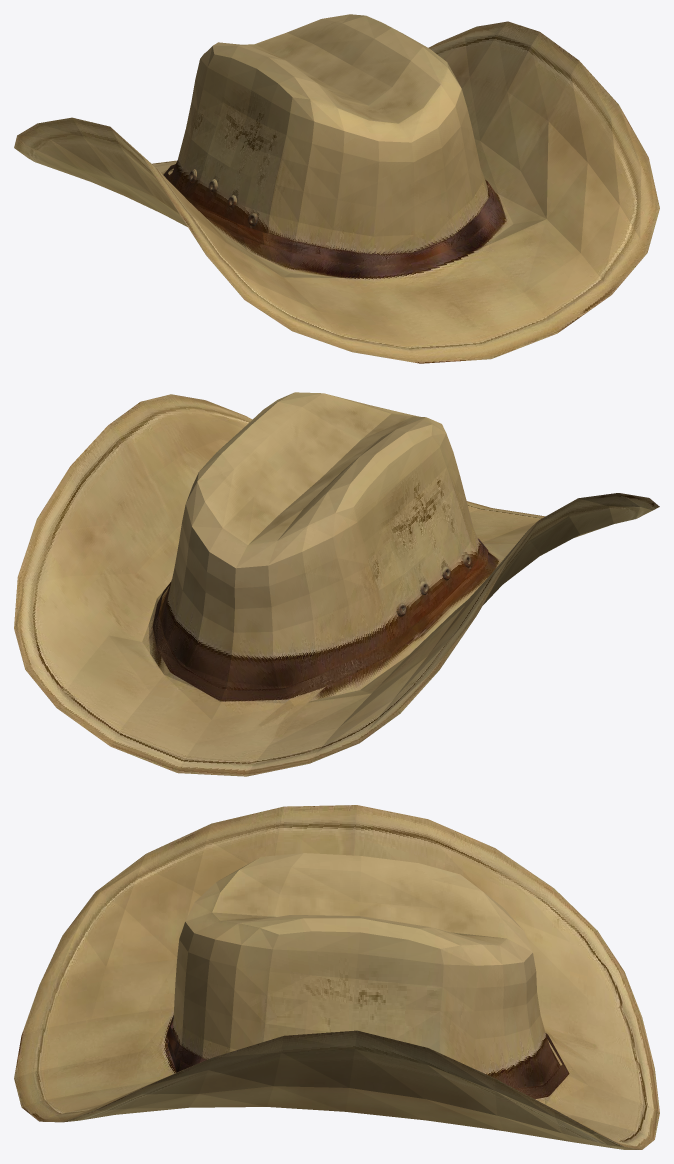
File: ewb_cowboyhat_worntan.glb
3 renders of one model, top to bottom at view 1: azimuth 30°, elevation 25°; view 2: azimuth 150°, elevation 25°; view 3: azimuth 270°, elevation 25°, orthographic. The views are drawn at different scales.
Visible parts, largest first — view 1: ewb_cowboyhat_worntan; view 2: ewb_cowboyhat_worntan; view 3: ewb_cowboyhat_worntan.
Boxes of the visible parts, <box> form: ewb_cowboyhat_worntan: <box>14,14,659,363</box>; ewb_cowboyhat_worntan: <box>14,392,659,776</box>; ewb_cowboyhat_worntan: <box>14,805,659,1149</box>.
Bounding box in the file's own units: 0.351 × 0.1702 × 0.4286.
2 materials, 2 textured.
